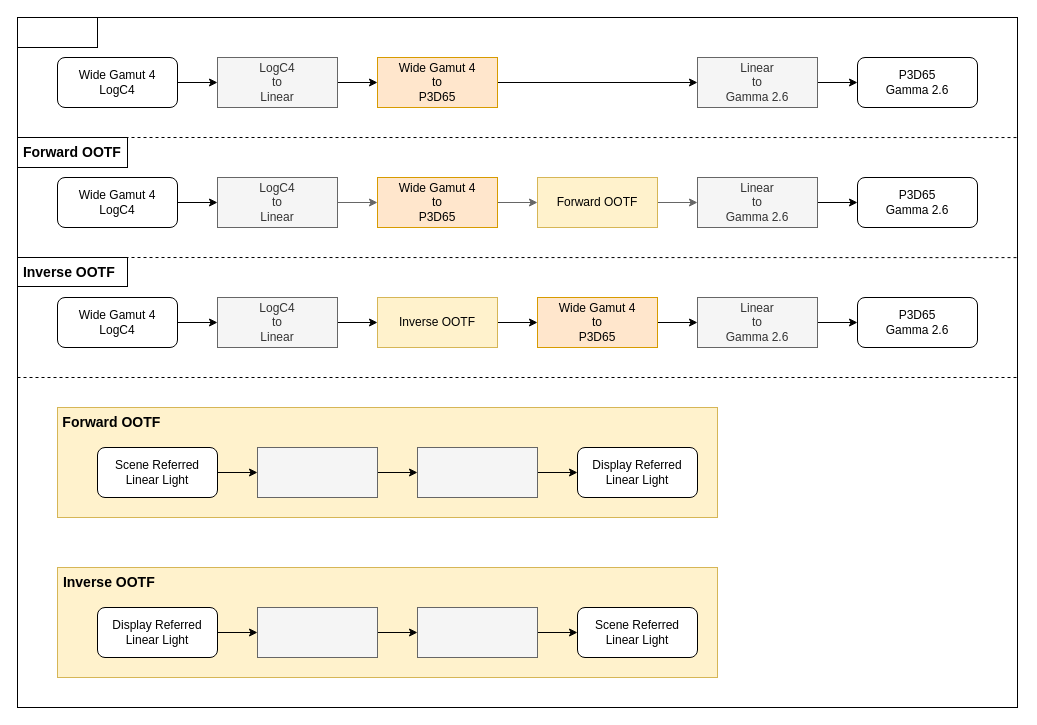
The diagram is 1037 pixels wide and 725 high, and some of its shapes have lost their labels. The shapes that lost their labels are listed below. From the top down, each one's centre as x and y in pixels, then its label:
At [57,32]: "No OOTF".
At [317,472]: "BT.709 OETF".
At [477,472]: "BT.1886 EOTF".
At [317,632]: "Inverse BT.1886 EOTF".
At [477,632]: "Inverse BT.709 OETF".
